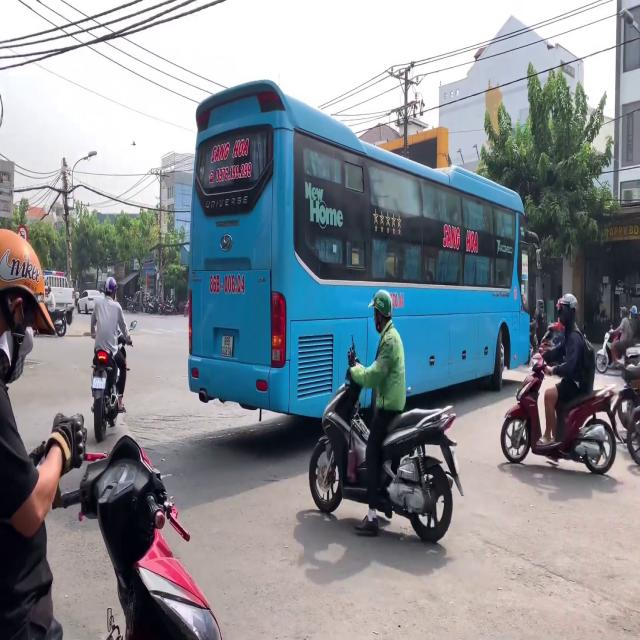bien_trang: (221, 334, 233, 359)
